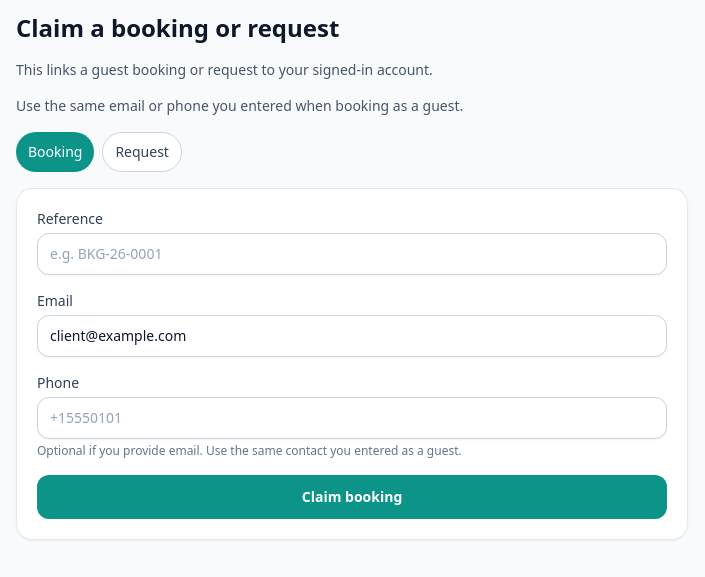
Test: ClaimGuestPage › C. missing reference shows validation
Replace the text in the field labelled "Email" with "guest@example.com" at (352, 336), box [37,315,667,357]
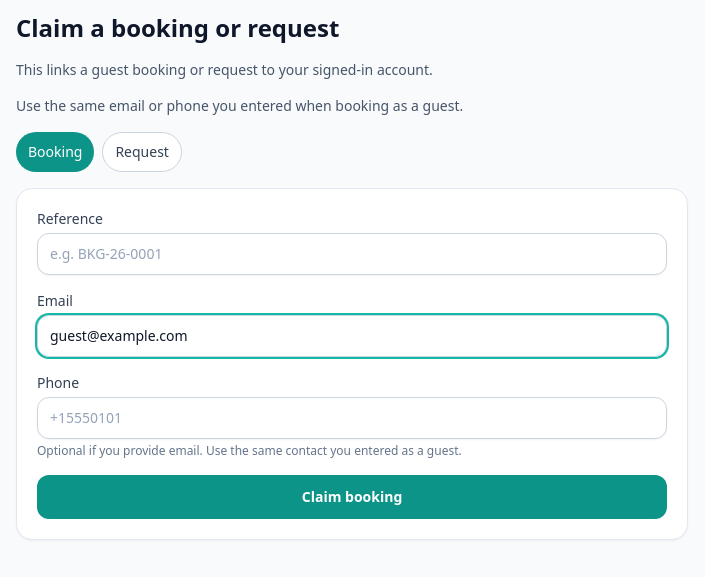
Click the button "Claim booking" at (352, 497), box [37,475,667,519]
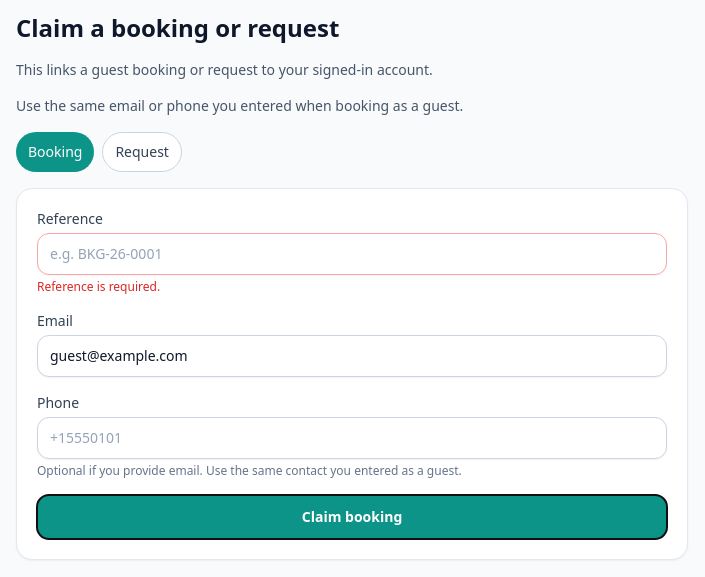
Result: the text "Reference is required." is shown at [37,278,160,295]
